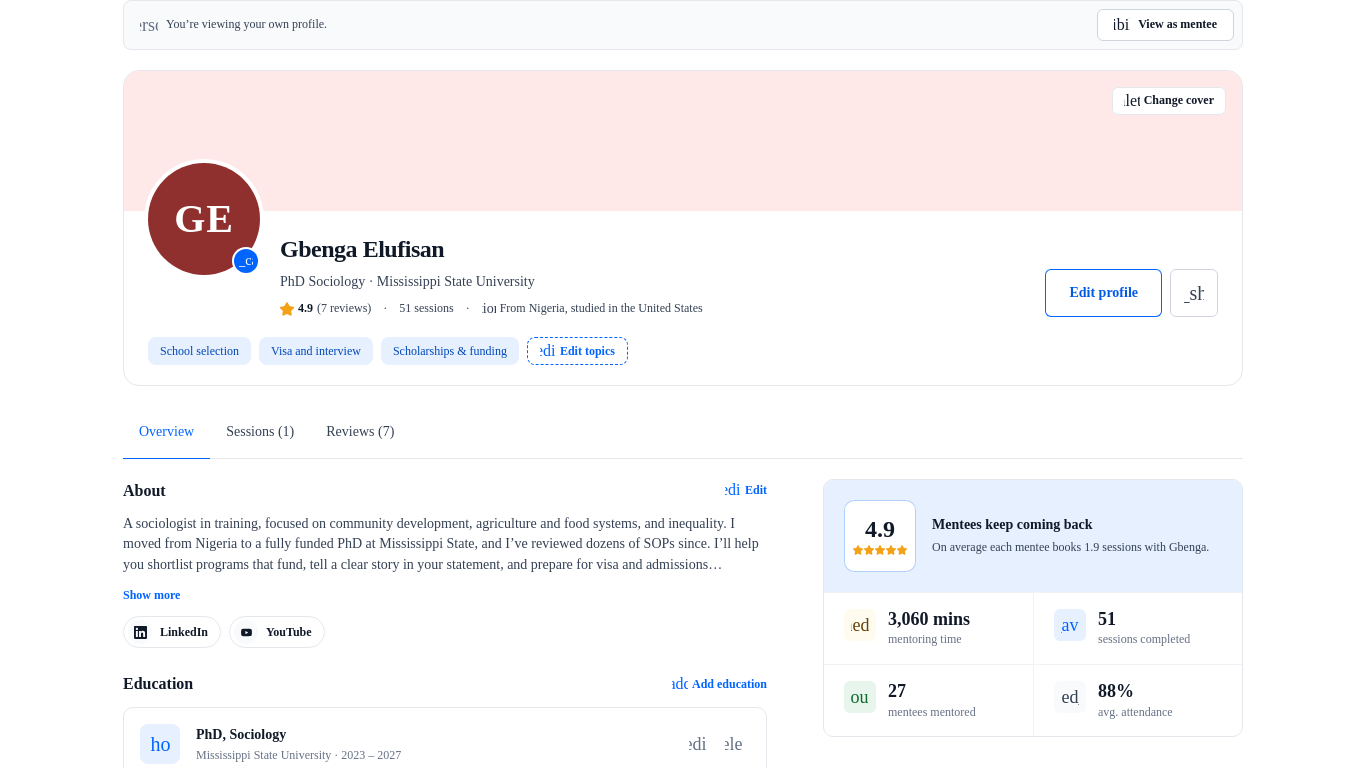
Test: MentorProfileScreen — "View as mentee" › not taking bookings: shows what mentees see (review of PR 106)
This screenshot has width=1366, height=768.
Click the button "visibility View as mentee" at (1166, 25), box left=1097, top=9, right=1234, bottom=41
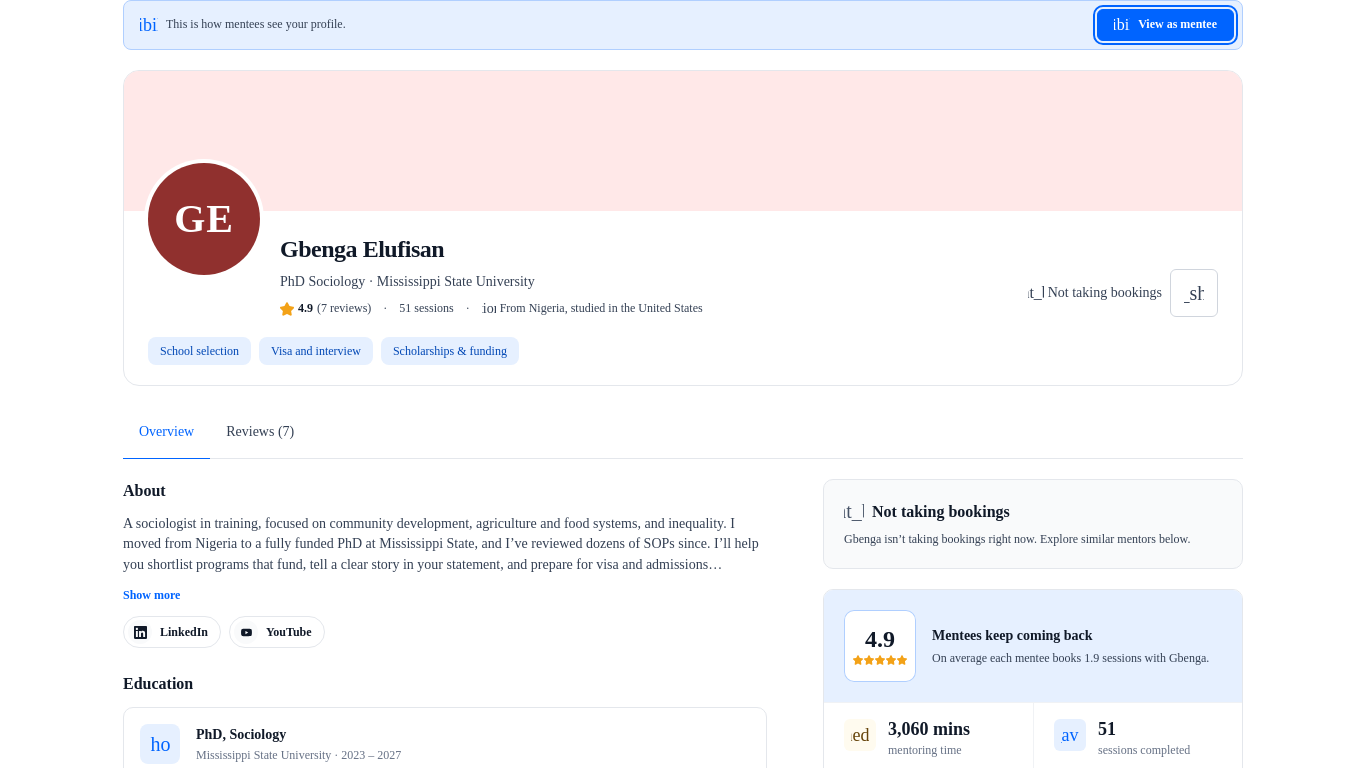
Check: the text "Not taking bookings" is shown, box left=1048, top=285, right=1162, bottom=300
